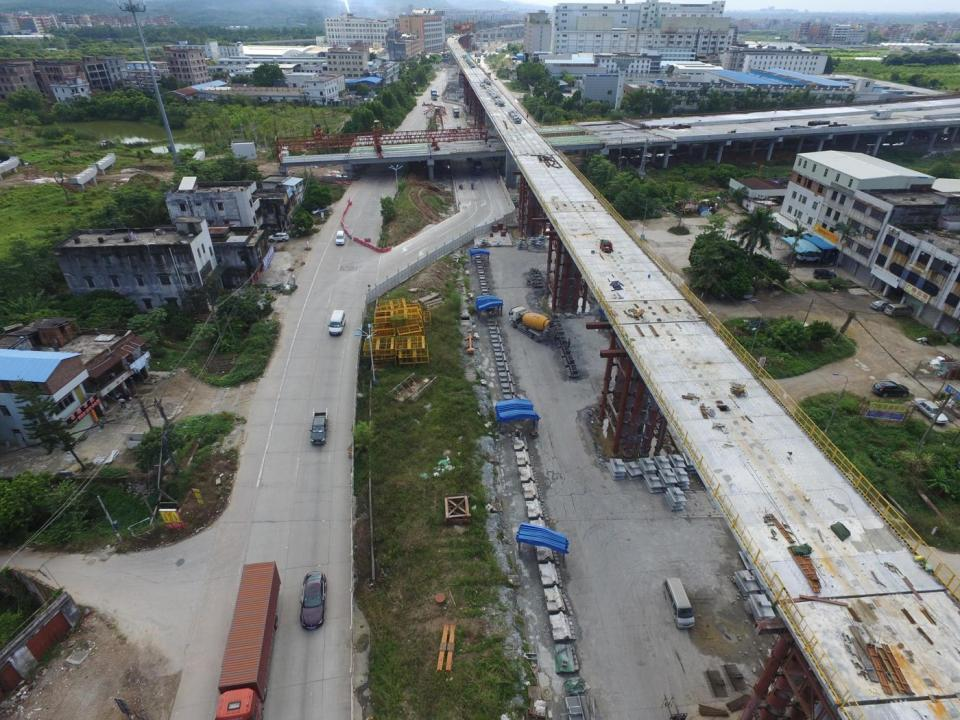car: (300, 570, 326, 629), (912, 399, 946, 425), (870, 378, 908, 400), (870, 298, 896, 311), (814, 270, 837, 279), (269, 233, 290, 242), (311, 207, 330, 216), (335, 230, 346, 245), (436, 93, 439, 97), (457, 124, 461, 127), (495, 77, 497, 79)
truck: (216, 561, 282, 720), (310, 409, 329, 445), (474, 161, 482, 175), (452, 106, 458, 117), (430, 89, 436, 100)
van: (662, 578, 695, 629), (328, 309, 346, 337), (886, 302, 912, 318)
